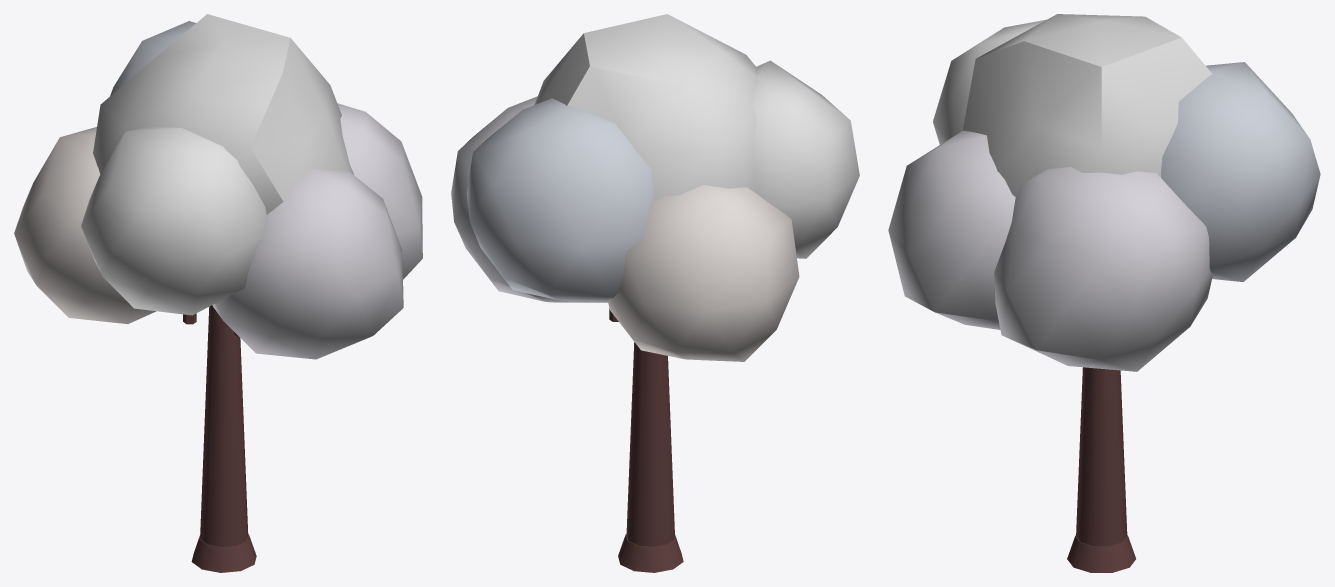
The model's file is sakura_0.glb.
3 views of the same model, side by side, from view 1: azimuth 30°, elevation 25°; view 2: azimuth 150°, elevation 25°; view 3: azimuth 270°, elevation 25° (orthographic). The views are drawn at different scales.
Visible parts, largest first — view 1: sakura; view 2: sakura; view 3: sakura.
Boxes of the visible parts, x1,y1,x2,y2 form: sakura: [14, 14, 422, 572]; sakura: [451, 14, 859, 572]; sakura: [888, 14, 1320, 572].
Size of the model in its own units: 4.06 by 5.83 by 4.24.
